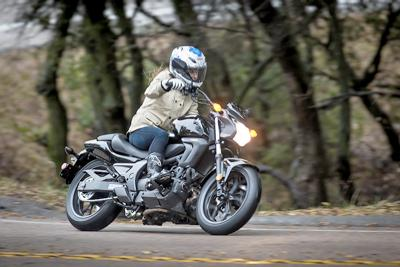With Helmet: (169, 45, 209, 87)
